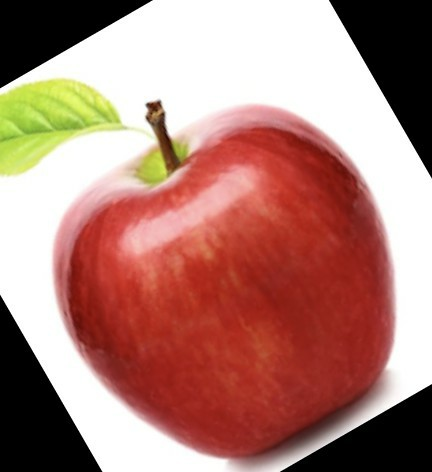fresh_apple: (53, 102, 396, 462)
